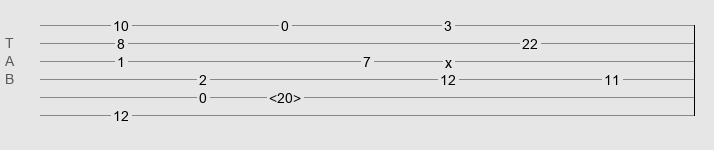0: (199, 90, 207, 100), (281, 18, 289, 28)
1: (117, 54, 125, 64)
10: (113, 18, 129, 28)
11: (604, 72, 620, 82)
12: (113, 108, 129, 118), (440, 72, 456, 82)
2: (199, 72, 207, 82)
22: (522, 36, 538, 46)
3: (444, 18, 452, 28)
7: (363, 54, 371, 64)
8: (117, 36, 125, 46)
harmonic: (269, 90, 301, 100)
x: (445, 55, 452, 63)
